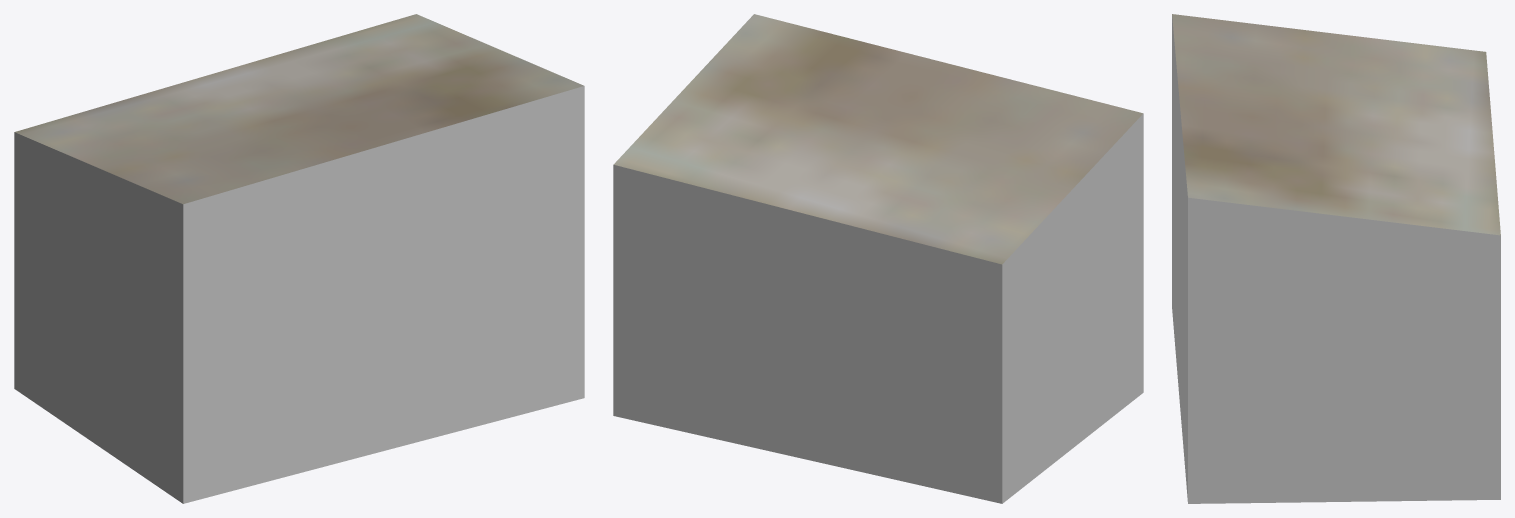
File: DEBW_0010007TxeU.gltf
The picture shows the model from 3 angles, left to right: view 1: azimuth 30°, elevation 25°; view 2: azimuth 150°, elevation 25°; view 3: azimuth 270°, elevation 25°; orthographic projection. The views are drawn at different scales.
Parts seen in each view (by area): view 1: Z_UP; view 2: Z_UP; view 3: Z_UP.
Boxes of the visible parts, x1,y1,x2,y2 form: Z_UP: (14,14,584,503); Z_UP: (613,14,1143,503); Z_UP: (1172,14,1500,503).
Size of the model in its own units: 3.86 by 2.75 by 2.68.
Materials: 2 (1 with a texture image).
